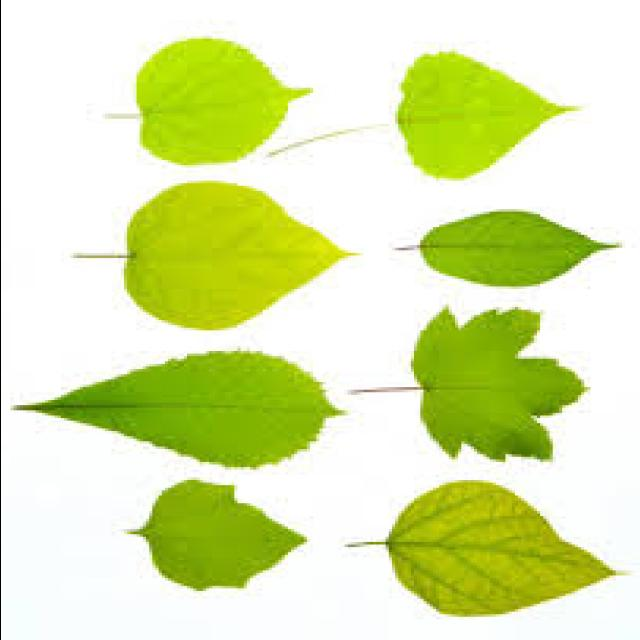leaves: (76, 182, 350, 329), (15, 352, 339, 466), (351, 481, 616, 616), (355, 310, 583, 460), (396, 52, 573, 179), (137, 40, 306, 162), (131, 480, 304, 589), (399, 211, 614, 286)
